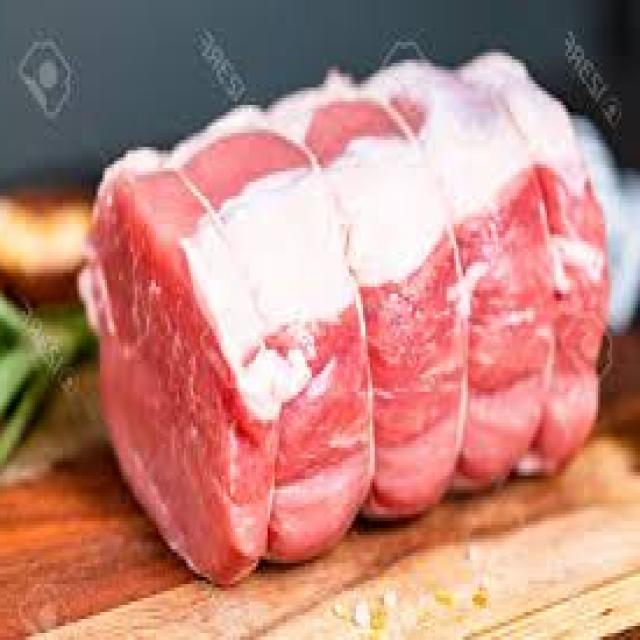Pork: (81, 56, 607, 583)
